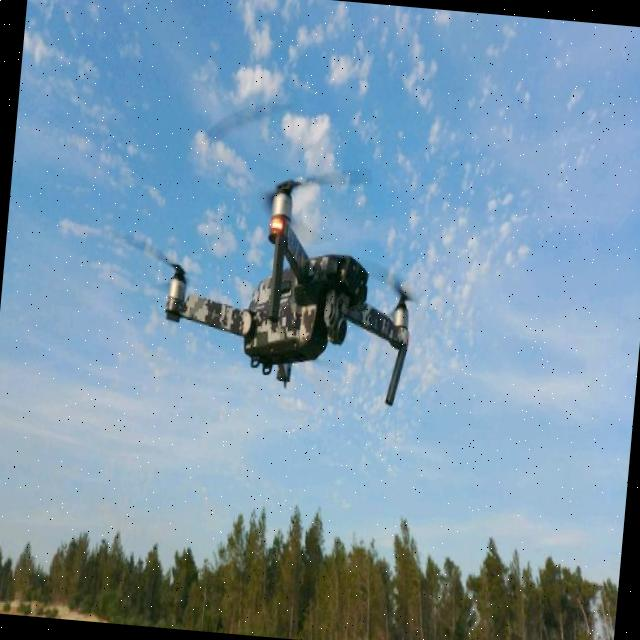drone: (123, 140, 438, 452)
